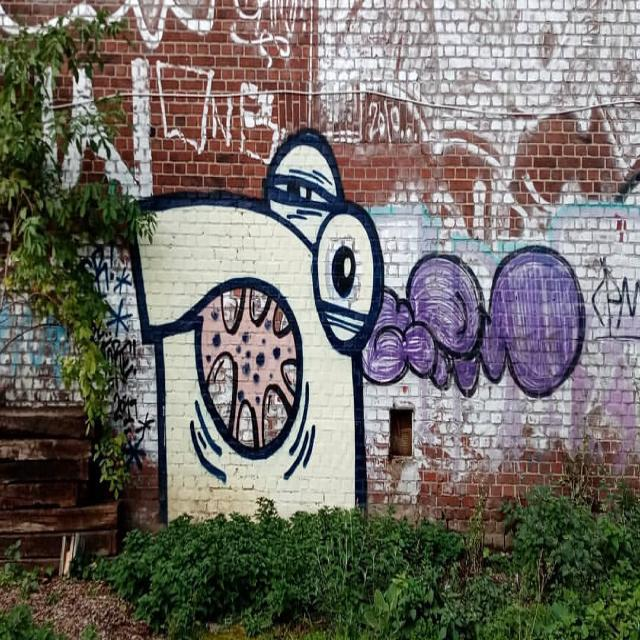nonspitting: (40, 60, 154, 201), (156, 62, 282, 165), (591, 271, 640, 343)
spitting: (135, 129, 589, 522)
